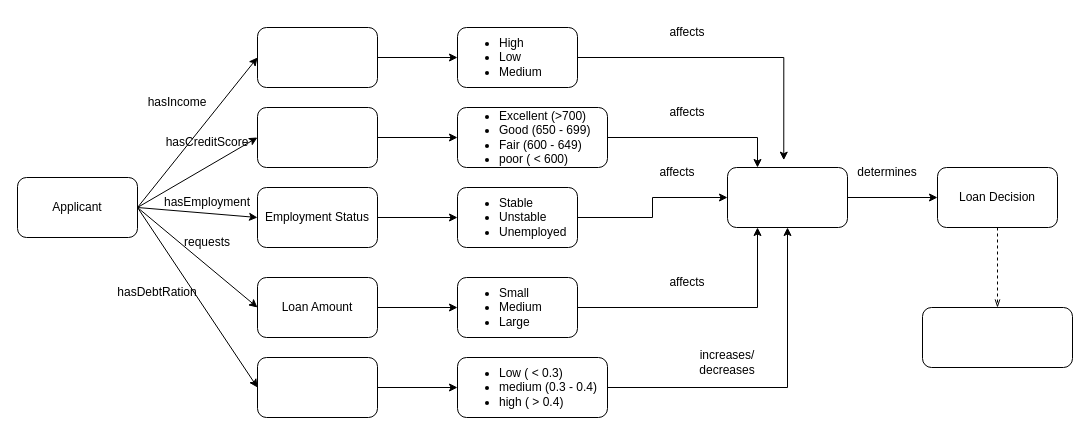
Image size: 1090x438. Some labels were removed from this diagram. Each missing label, with the centre of its shape:
"Approved Approved with conditions Rejected" belongs at (997,337).
"Credit Score" belongs at (317,137).
"Debt Ratio" belongs at (317,387).
"Income" belongs at (317,57).
"Risk Level" belongs at (787,197).
